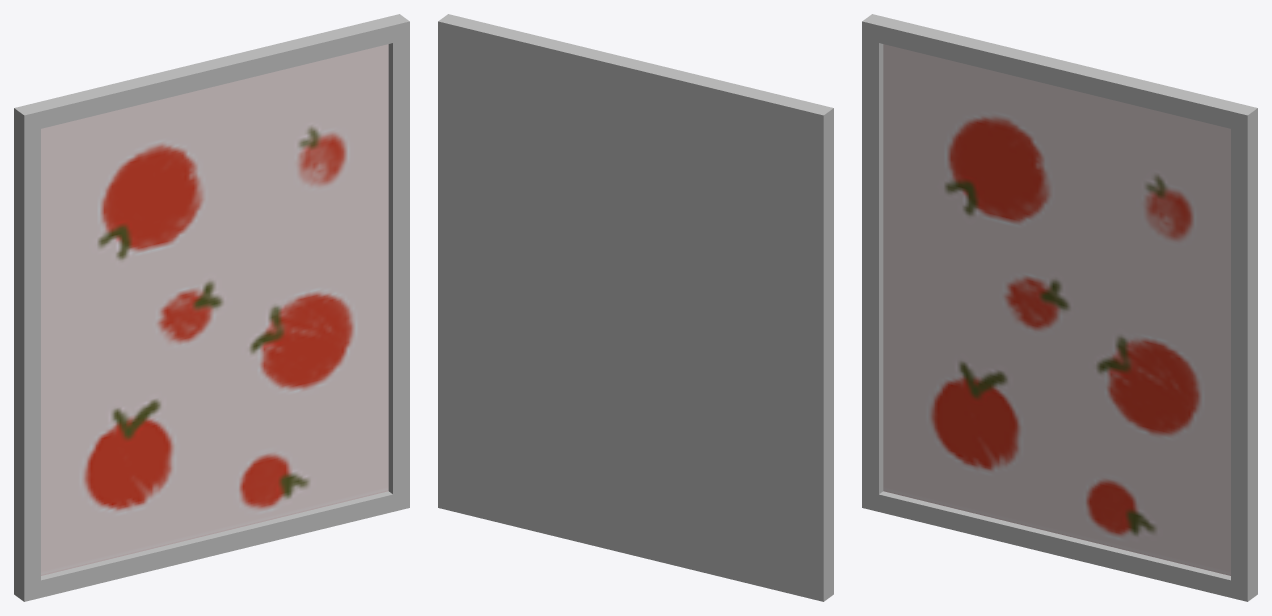
Rendered from SM_Props_Paintnig_14.fbx.
3 views of the same model, side by side, from view 1: azimuth 30°, elevation 25°; view 2: azimuth 150°, elevation 25°; view 3: azimuth 330°, elevation 25° (orthographic).
Parts seen in each view (by area): view 1: SM_Props_Paintnig_14; view 2: SM_Props_Paintnig_14; view 3: SM_Props_Paintnig_14.
Boxes of the visible parts, <box> form: SM_Props_Paintnig_14: <box>14,14,409,601</box>; SM_Props_Paintnig_14: <box>438,14,833,601</box>; SM_Props_Paintnig_14: <box>862,14,1257,601</box>.
Size of the model in its own units: 0.5385 by 0.6493 by 0.0246.
